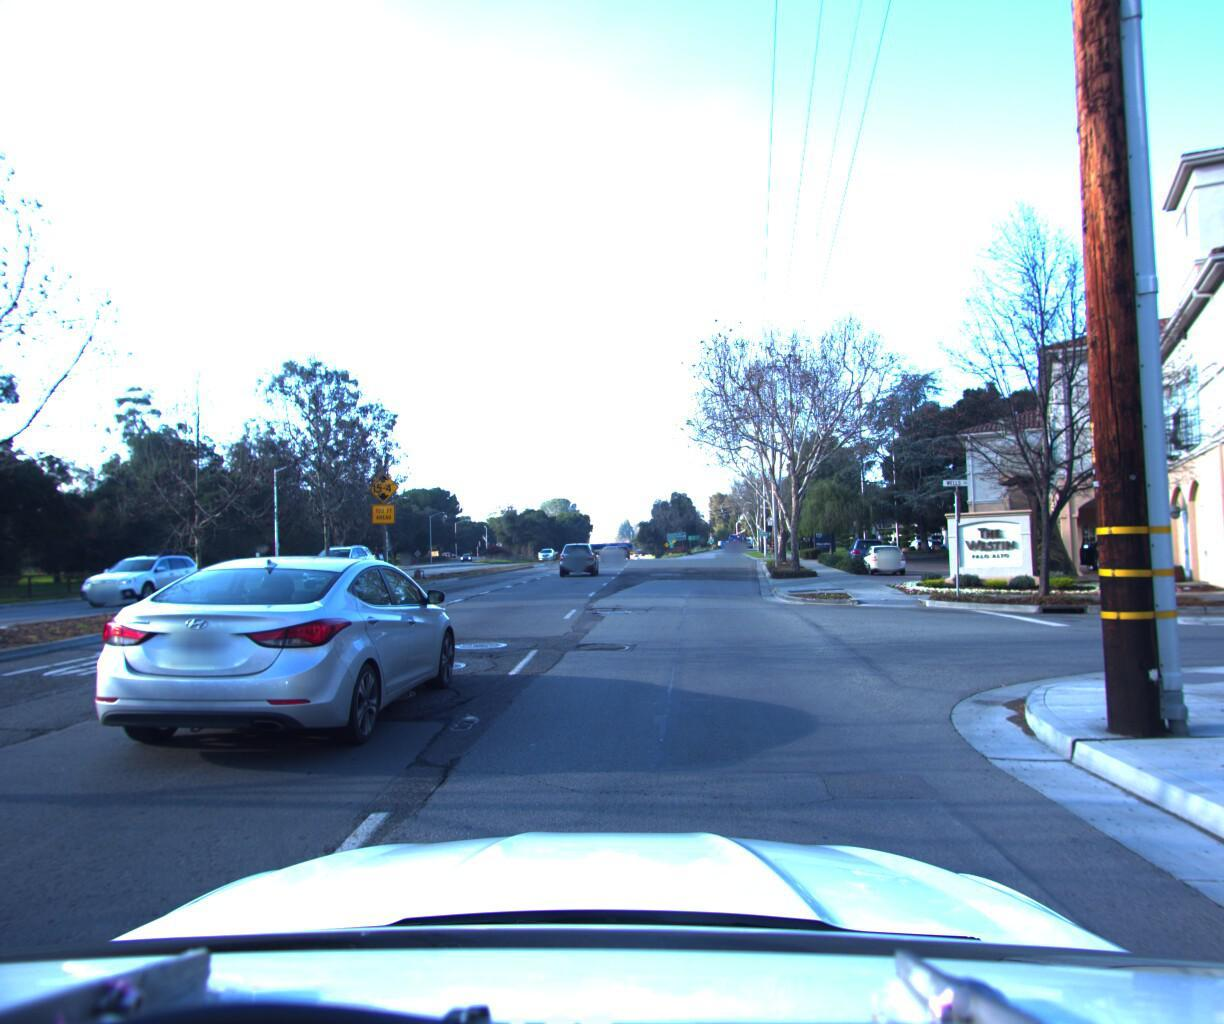car: (67, 537, 462, 774), (75, 546, 213, 604), (297, 539, 380, 582), (844, 528, 889, 567), (859, 536, 908, 570), (556, 535, 598, 573), (598, 540, 620, 557)
